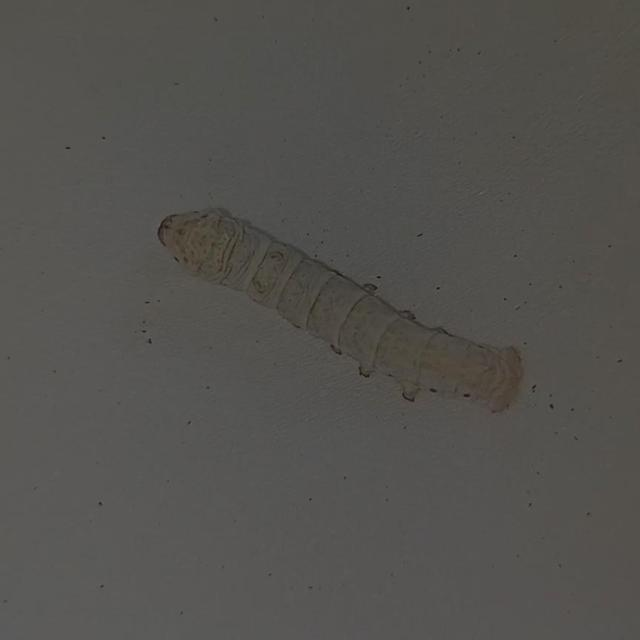Healthy: (140, 180, 554, 434)
